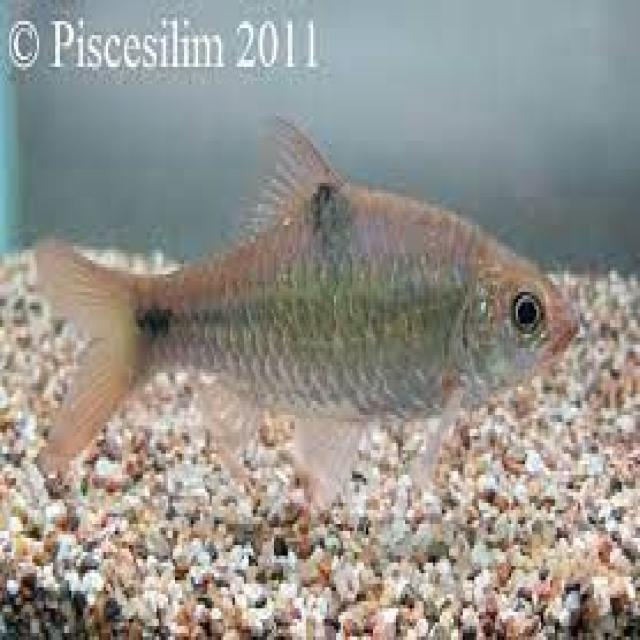Black-Spotted-Barb: (18, 120, 600, 542)
